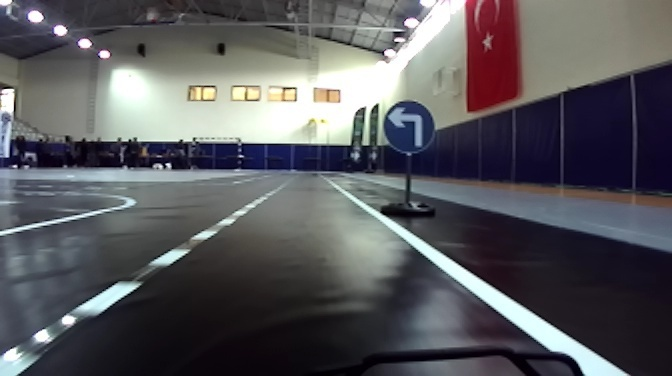sola_donus: (382, 102, 437, 153)
